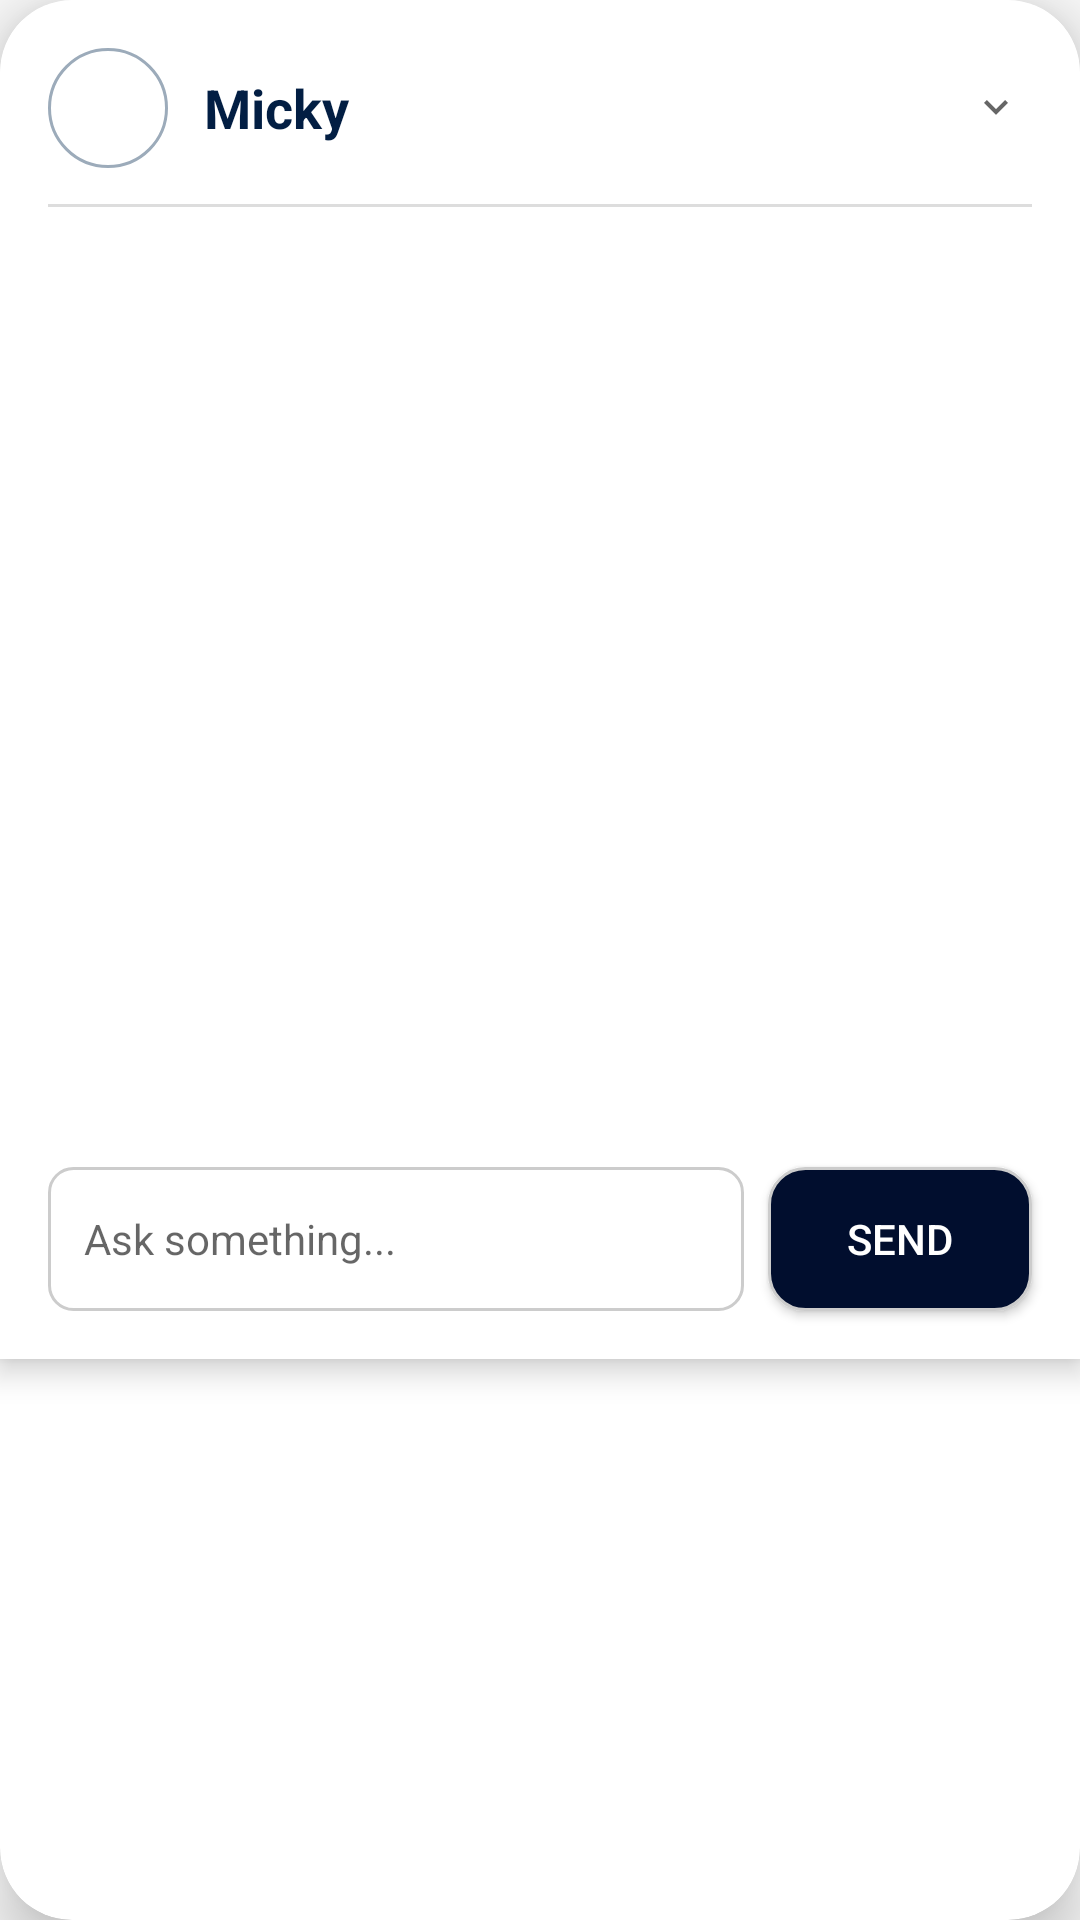

Named icons in this screenshot (1080w x 1920h) and their bounding boxes, {"left": x1, "top": y1, "right": x2, "bottom": y2}:
Collapse: {"left": 984, "top": 100, "right": 1008, "bottom": 115}
